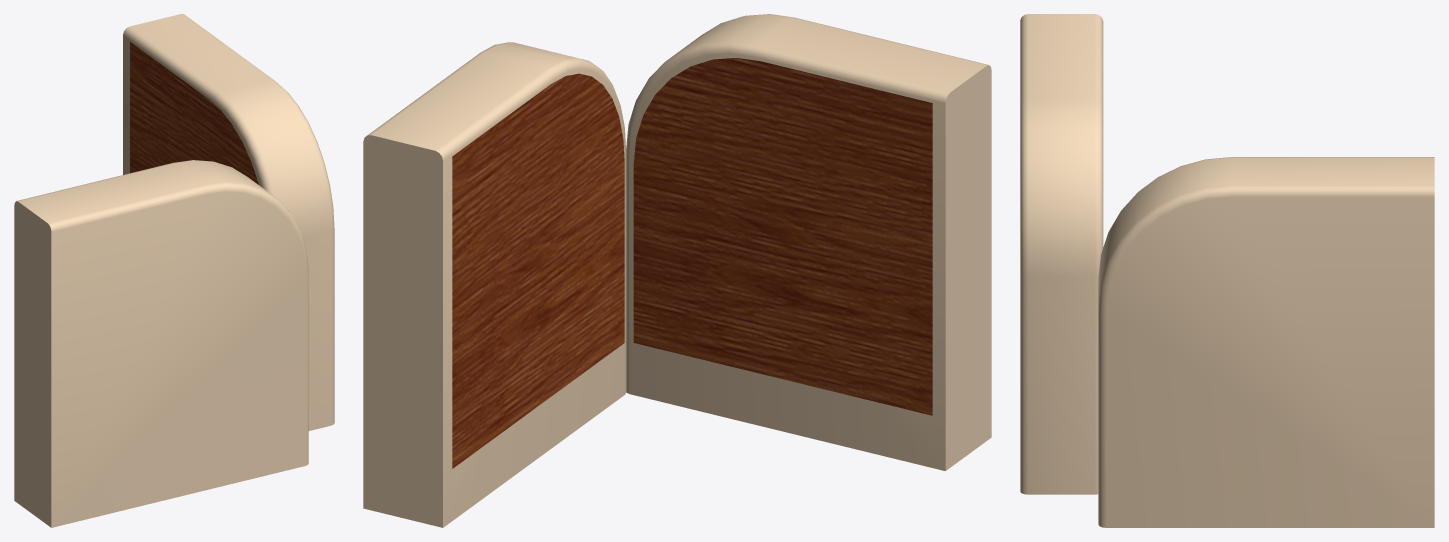
File: Wall_Corner_I_2.glb
3 renders of one model, left to right at view 1: azimuth 30°, elevation 25°; view 2: azimuth 150°, elevation 25°; view 3: azimuth 270°, elevation 25°, orthographic. The views are drawn at different scales.
Visible parts, largest first — view 1: Cube.007, Cube.010, Plane.012; view 2: Plane.010, Cube.010, Cube.007, Plane.012; view 3: Cube.010, Cube.007.
Boxes of the visible parts, <box> form: Cube.007: <box>14,160,308,527</box>; Cube.010: <box>123,14,334,430</box>; Plane.012: <box>130,42,258,184</box>; Plane.010: <box>633,58,932,415</box>; Cube.010: <box>363,42,626,527</box>; Cube.007: <box>626,14,991,470</box>; Plane.012: <box>452,73,624,468</box>; Cube.010: <box>1098,157,1434,527</box>; Cube.007: <box>1020,14,1103,494</box>.
Size of the model in its own units: 2.5 by 2.25 by 2.5.
4 materials, 4 textured.
